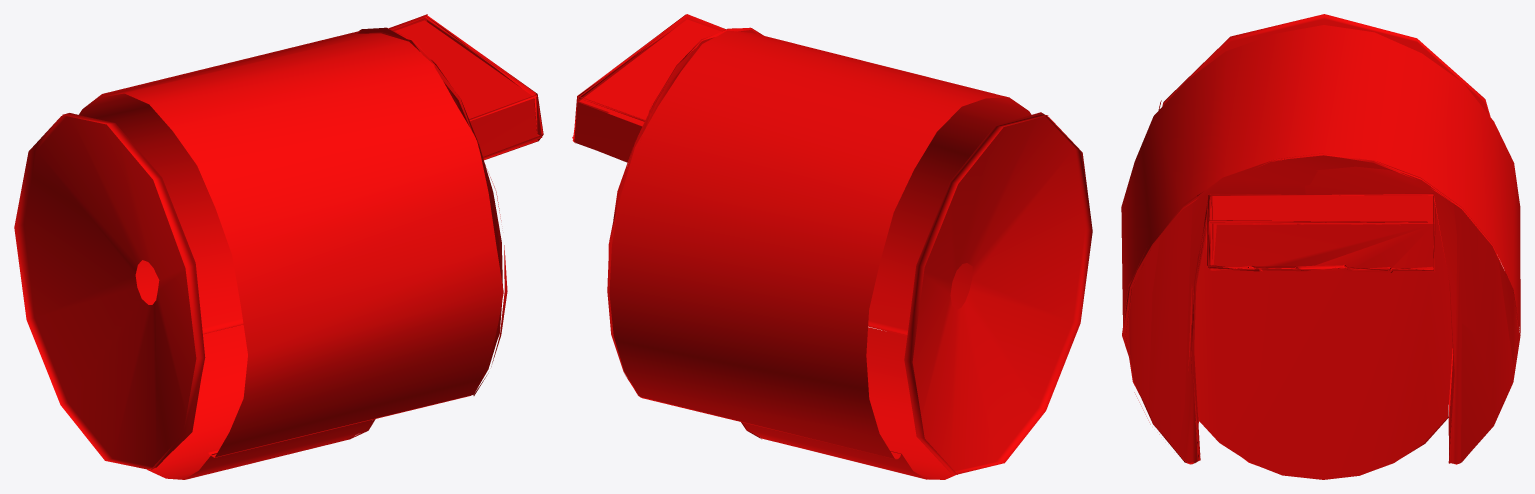
3 renders of one model, left to right at view 1: azimuth 30°, elevation 25°; view 2: azimuth 150°, elevation 25°; view 3: azimuth 270°, elevation 25°, orthographic. The views are drawn at different scales.
Parts seen in each view (by area): view 1: Renderer Node; view 2: Renderer Node; view 3: Renderer Node.
Part boxes in pixels (x1,y1,x2,y2): Renderer Node: [14, 14, 543, 479]; Renderer Node: [572, 14, 1092, 479]; Renderer Node: [1121, 14, 1520, 479].
Size of the model in its own units: 0.6266 by 0.5751 by 0.5544.
1 material, 1 textured.
